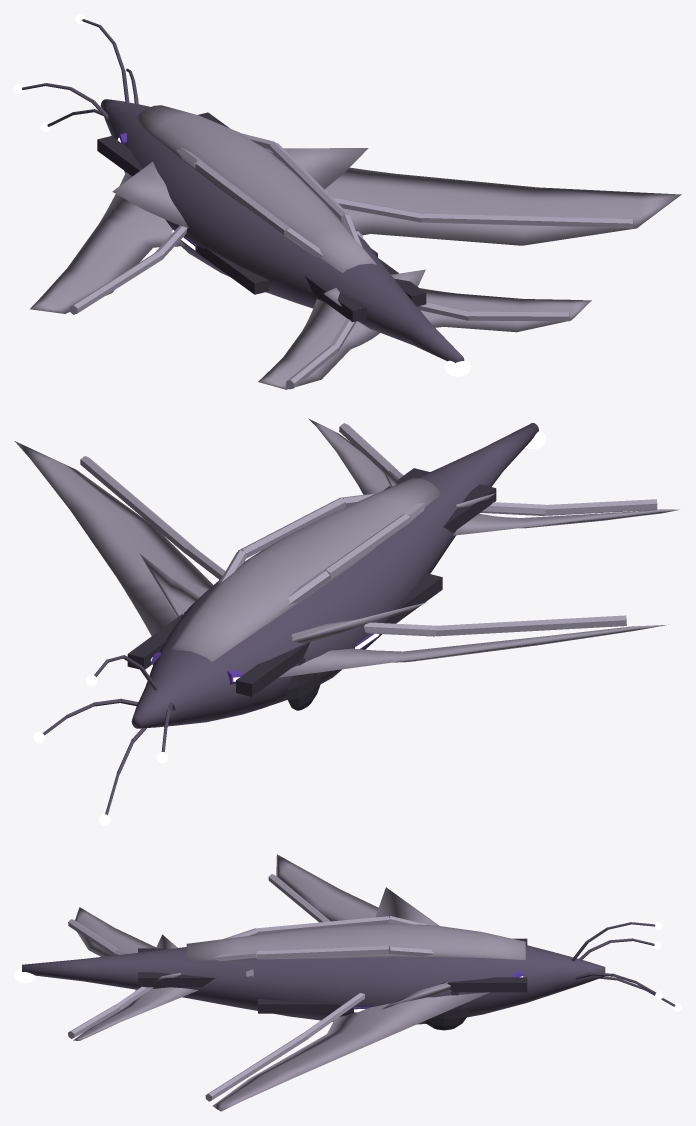
The picture shows the model from 3 angles, top to bottom: view 1: azimuth 30°, elevation 25°; view 2: azimuth 150°, elevation 25°; view 3: azimuth 270°, elevation 25°; orthographic projection. The views are drawn at different scales.
Parts seen in each view (by area): view 1: RIMWARD_HULL; view 2: RIMWARD_HULL; view 3: RIMWARD_HULL.
Part boxes in pixels (x1=…): RIMWARD_HULL: x1=22, y1=19, x2=681, y2=389; RIMWARD_HULL: x1=14, y1=418, x2=679, y2=815; RIMWARD_HULL: x1=22, y1=854, x2=675, y2=1111.
Size of the model in its own units: 6.85 by 1.31 by 7.79.
